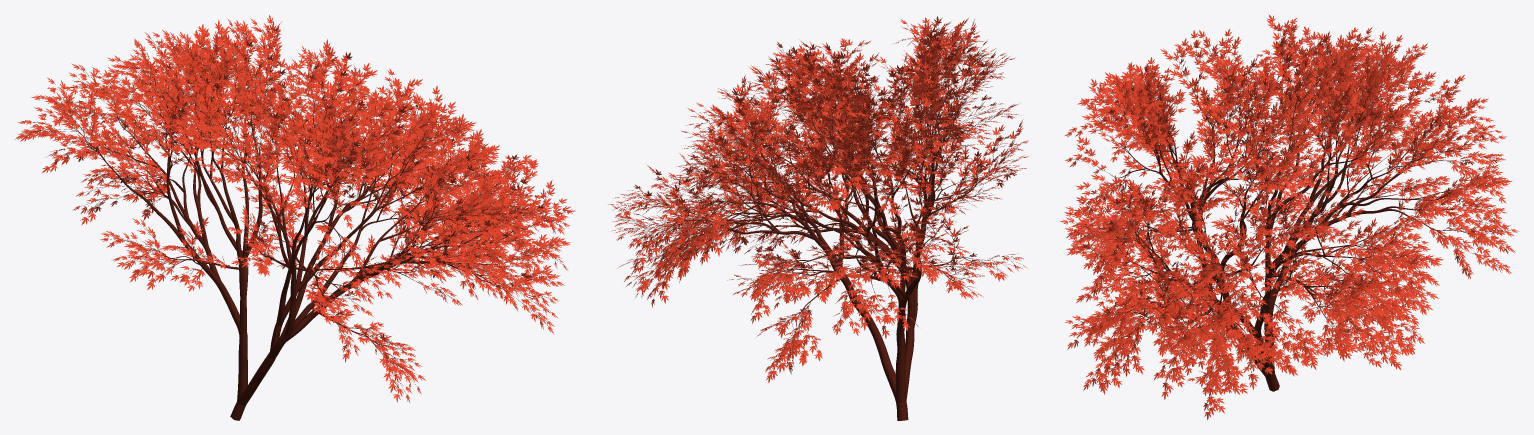
File: Tree_Maple_004.glb
The picture shows the model from 3 angles, left to right: view 1: azimuth 30°, elevation 25°; view 2: azimuth 150°, elevation 25°; view 3: azimuth 270°, elevation 25°; orthographic projection. The views are drawn at different scales.
Visible parts, largest first — view 1: leaves.004, tree.004; view 2: leaves.004, tree.004; view 3: leaves.004, tree.004.
Part boxes in pixels (x1,y1,x2,y2): leaves.004: (15,15,575,402); tree.004: (24,23,564,420); leaves.004: (608,16,1028,382); tree.004: (616,23,1021,420); leaves.004: (1060,14,1518,420); tree.004: (1069,23,1510,410).
Size of the model in its own units: 11.05 by 9.27 by 10.7.
